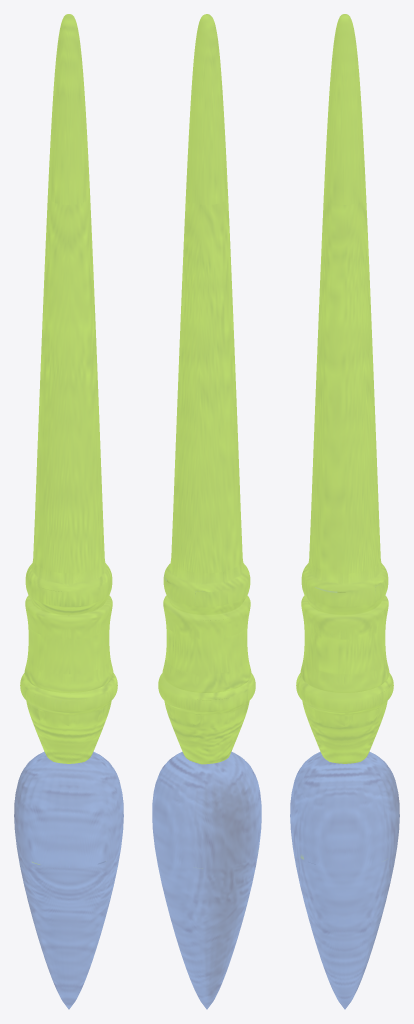
The model's file is Crayon2.fbx.
3 views of the same model, side by side, from view 1: azimuth 90°, elevation 25°; view 2: azimuth 210°, elevation 25°; view 3: azimuth 270°, elevation 25° (orthographic).
Visible parts, largest first — view 1: Brush; view 2: Brush; view 3: Brush.
Boxes of the visible parts, box(x1,y1,x2,y2) form: Brush: box(14, 14, 123, 1009); Brush: box(152, 14, 261, 1009); Brush: box(290, 14, 399, 1009).
Bounding box in the file's own units: 0.0491 × 0.0491 × 0.4909.
